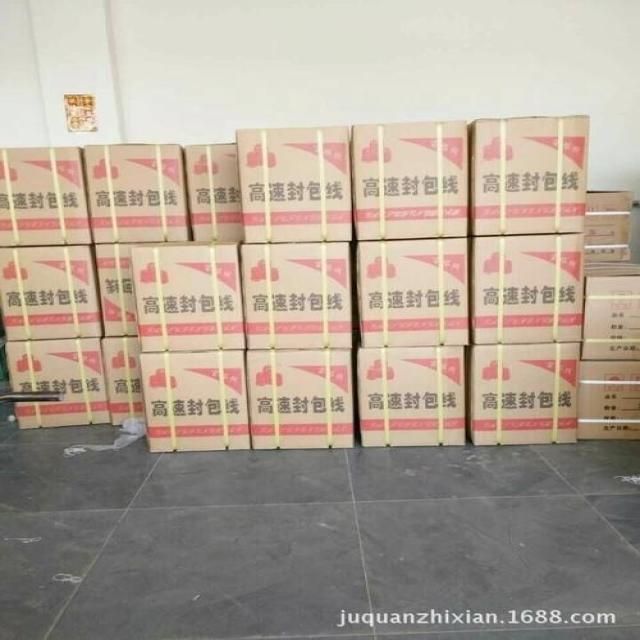Carton: (81, 143, 352, 350), (0, 248, 109, 427), (348, 121, 468, 240), (471, 116, 588, 233), (470, 234, 584, 342), (236, 127, 344, 240), (357, 241, 467, 342), (244, 348, 351, 448), (140, 351, 244, 452), (357, 346, 462, 445), (474, 344, 577, 442), (0, 146, 87, 245)
